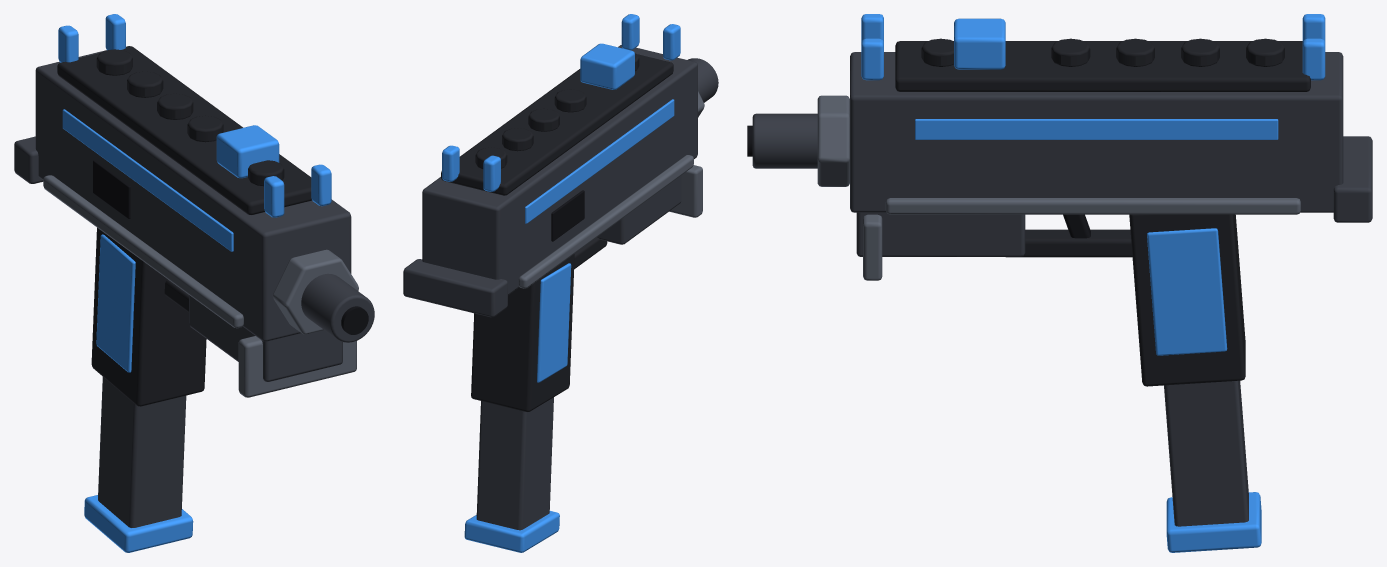
File: Uzi.fbx
The picture shows the model from 3 angles, left to right: view 1: azimuth 30°, elevation 25°; view 2: azimuth 150°, elevation 25°; view 3: azimuth 270°, elevation 25°; orthographic projection. The views are drawn at different scales.
Parts seen in each view (by area): view 1: Uzi_Plastic, Uzi_Metal, Uzi_SmoothPlastic; view 2: Uzi_Plastic, Uzi_Metal, Uzi_SmoothPlastic; view 3: Uzi_Plastic, Uzi_Metal, Uzi_SmoothPlastic.
Boxes of the visible parts, box(x1,y1,x2,y2) form: Uzi_Plastic: box(35, 46, 351, 406); Uzi_Metal: box(14, 136, 374, 527); Uzi_SmoothPlastic: box(58, 14, 368, 552); Uzi_Plastic: box(422, 45, 697, 411); Uzi_Metal: box(403, 58, 718, 530); Uzi_SmoothPlastic: box(442, 14, 680, 552); Uzi_Plastic: box(850, 38, 1343, 386); Uzi_Metal: box(752, 95, 1372, 526); Uzi_SmoothPlastic: box(747, 14, 1325, 552).
Size of the model in its own units: 0.432 by 1.73 by 1.93.
3 materials, 3 textured.
